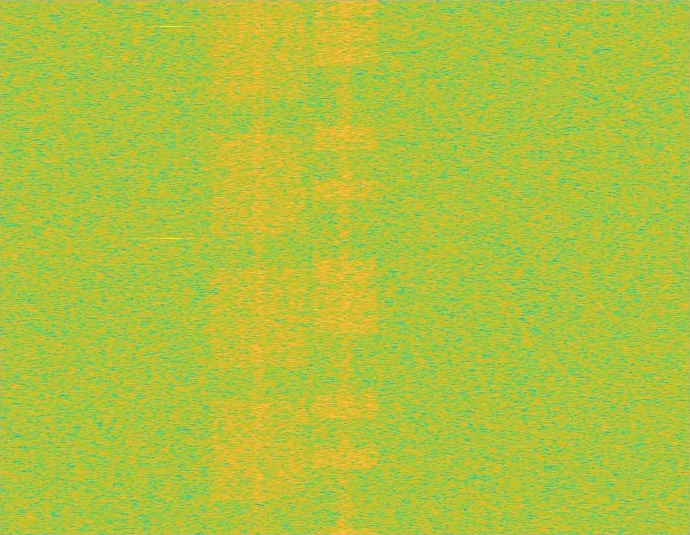5G: (207, 0, 311, 534)
DSSS: (338, 0, 353, 534), (252, 0, 266, 534)
LTE: (311, 0, 380, 534)
Radar: (164, 0, 178, 534)
